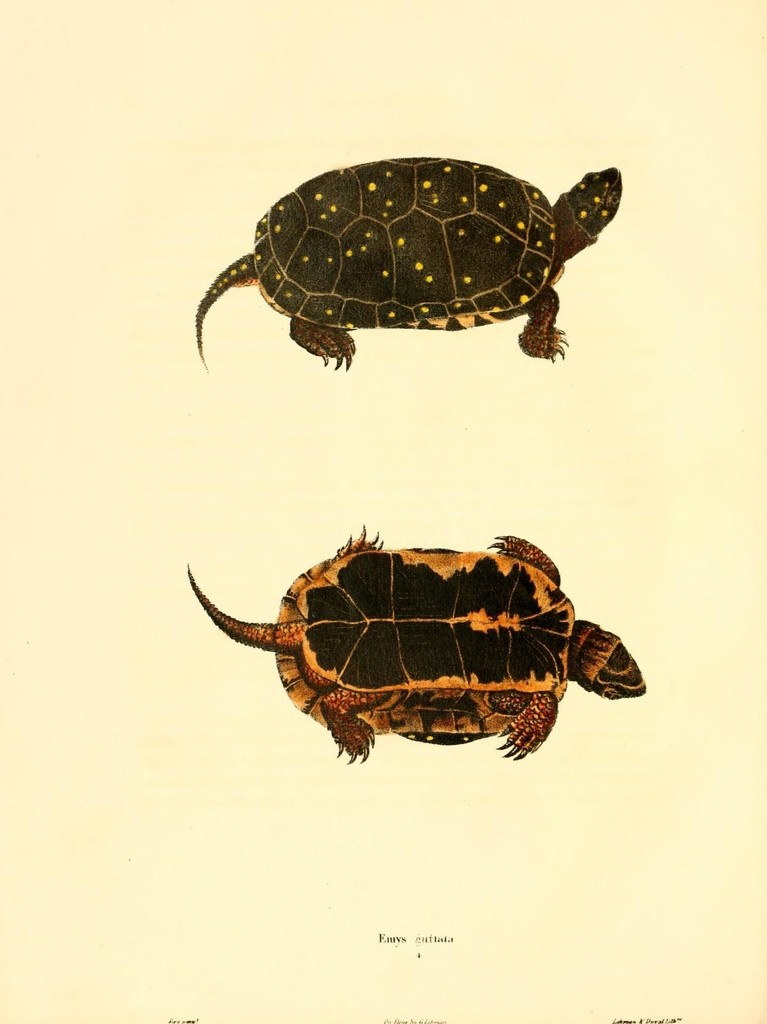Sea turtles: (181, 520, 646, 766), (190, 160, 624, 373)
